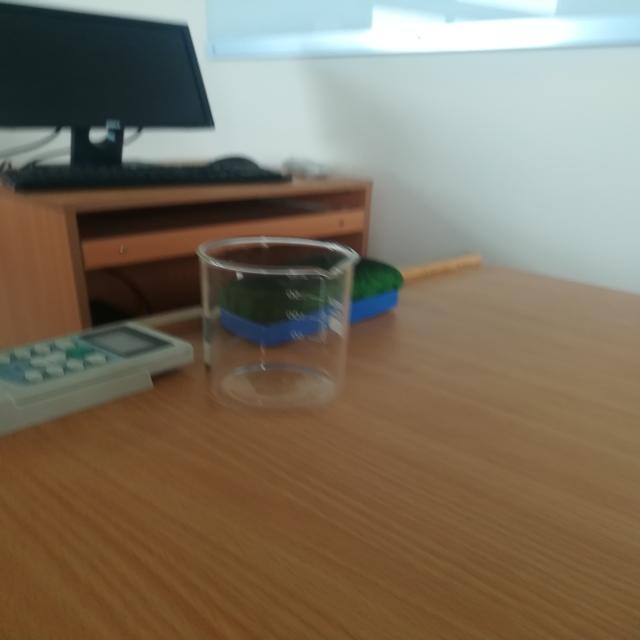Beaker: (162, 205, 394, 451)
